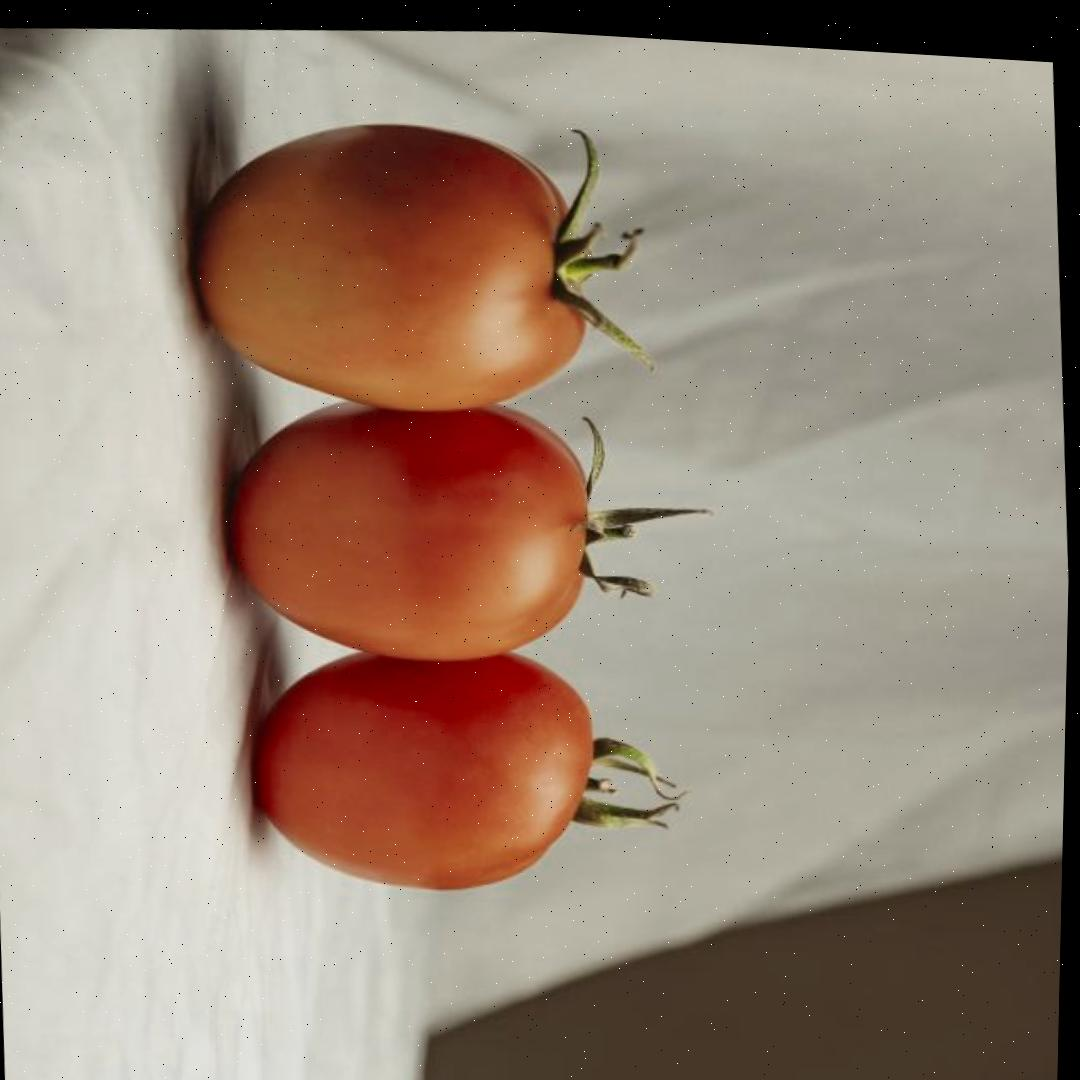matang: (182, 95, 667, 438), (220, 366, 723, 688), (244, 620, 698, 913)
